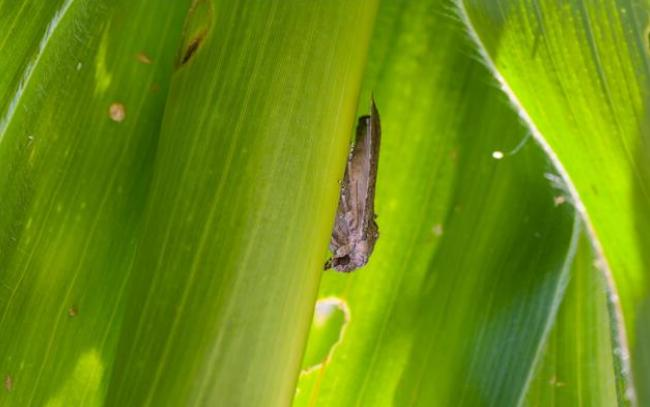army worm adult: (307, 90, 394, 289)
